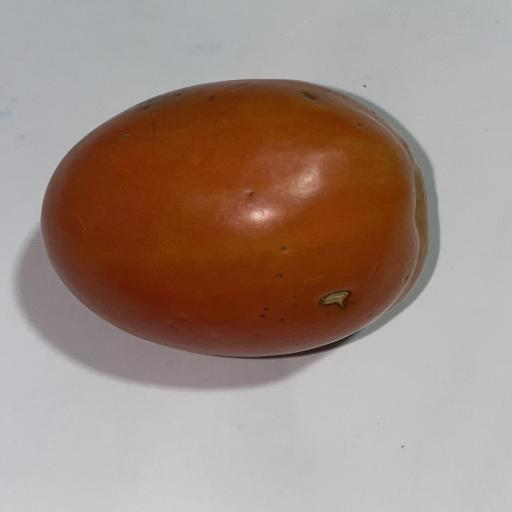ripe: (41, 80, 428, 356)
